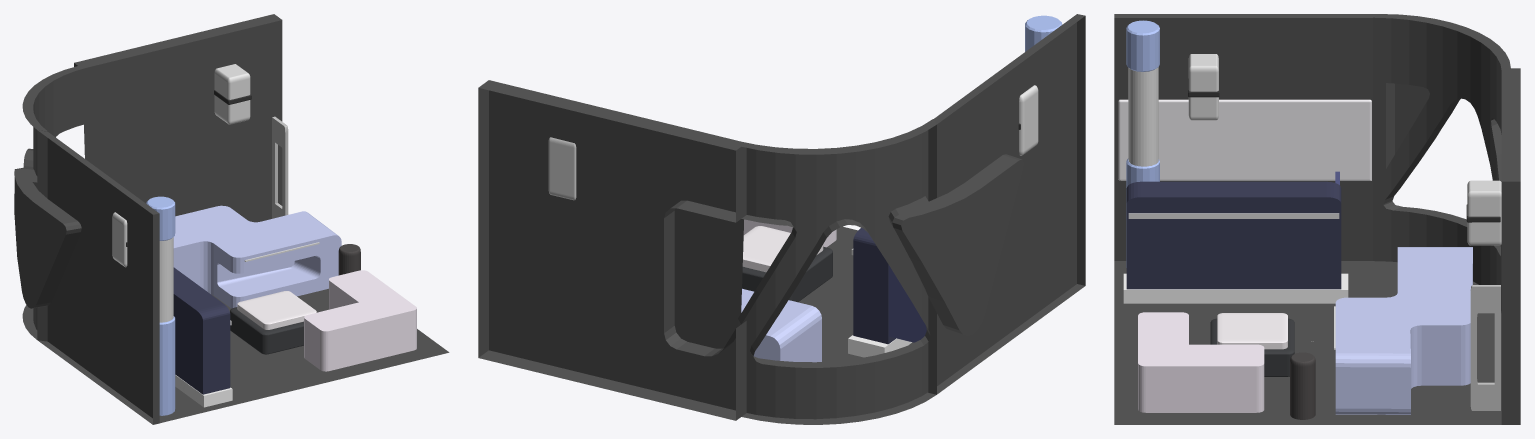
The model's file is VRprojectPMM2.fbx.
The picture shows the model from 3 angles, left to right: view 1: azimuth 30°, elevation 25°; view 2: azimuth 150°, elevation 25°; view 3: azimuth 270°, elevation 25°; orthographic projection. The views are drawn at different scales.
Visible parts, largest first — view 1: 평면, 평면.013, 평면.005, 큐브, 원형.002, 큐브.005, 큐브.002, 큐브.003, 평면.006, 실린더.001, 큐브.001, 큐브.004 (+1 smaller); view 2: 평면, 큐브, 평면.013, 평면.001, 큐브.003, 큐브.005, 큐브.002, 큐브.004, 큐브.001, 원형.002; view 3: 평면, 큐브, 평면.013, 평면.014, 평면.005, 큐브.001, 실린더.001, 평면.006, 큐브.005, 원형.002, 큐브.003, 큐브.004 (+3 smaller).
Boxes of the visible parts, x1,y1,x2,y2 form: 평면: (14,14,449,424); 평면.013: (173,205,341,308); 평면.005: (304,270,416,371); 큐브: (173,267,230,394); 원형.002: (146,196,175,415); 큐브.005: (237,291,316,329); 큐브.002: (230,307,303,354); 큐브.003: (214,64,250,124); 평면.006: (272,116,288,218); 실린더.001: (159,237,173,322); 큐브.001: (175,375,232,407); 큐브.004: (112,212,127,267); 평면: (478,14,1085,424); 큐브: (853,228,895,344); 평면.013: (741,288,821,362); 평면.001: (889,265,926,342); 큐브.003: (548,137,576,200); 큐브.005: (742,226,823,272); 큐브.002: (742,246,832,302); 큐브.004: (1019,85,1038,155); 큐브.001: (848,335,911,357); 원형.002: (1025,15,1062,51); 평면: (1114,14,1520,424); 큐브: (1126,181,1341,289); 평면.013: (1335,247,1472,414); 평면.014: (1118,99,1371,180); 평면.005: (1138,312,1264,412); 큐브.001: (1123,273,1348,303); 실린더.001: (1128,67,1158,166); 평면.006: (1470,285,1500,410); 큐브.005: (1217,313,1287,349); 원형.002: (1126,20,1159,267); 큐브.003: (1467,180,1501,245); 큐브.004: (1188,54,1218,120).
Size of the model in its own units: 35847 by 22849 by 34498.
